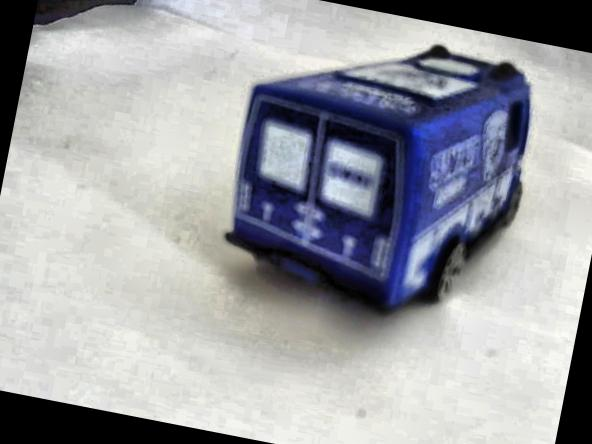police car: (208, 0, 549, 334)
